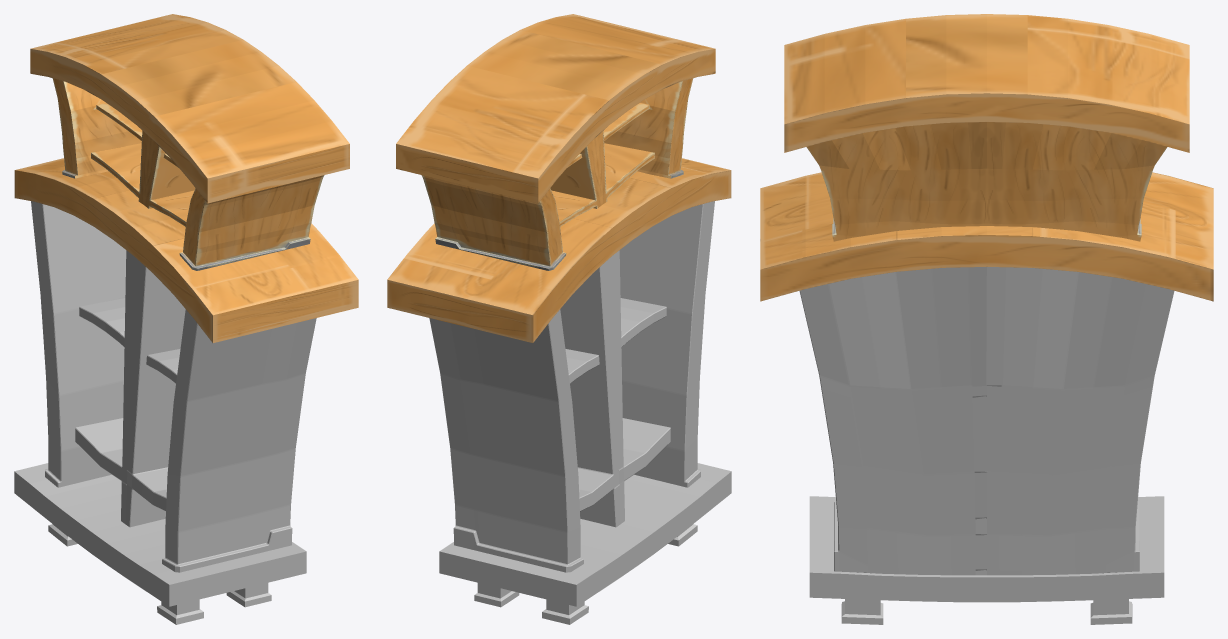
Rendered from Shelf_1.fbx.
The picture shows the model from 3 angles, left to right: view 1: azimuth 30°, elevation 25°; view 2: azimuth 150°, elevation 25°; view 3: azimuth 270°, elevation 25°; orthographic projection. The views are drawn at different scales.
Visible parts, largest first — view 1: Base.003; view 2: Base.003; view 3: Base.003.
Boxes of the visible parts, x1,y1,x2,y2 form: Base.003: (14,14,358,624); Base.003: (387,14,731,624); Base.003: (760,14,1213,624).
Size of the model in its own units: 1.35 by 3.75 by 2.74.
